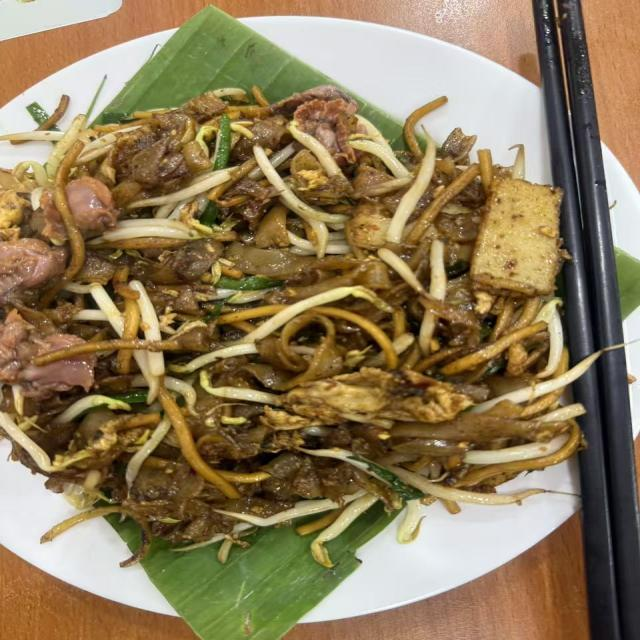Char Kway Teow: (20, 70, 580, 528)
